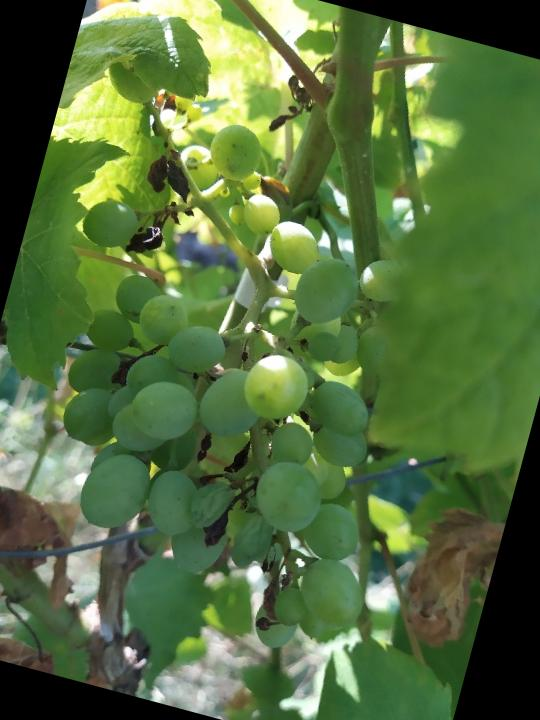grape: (0, 52, 488, 673)
